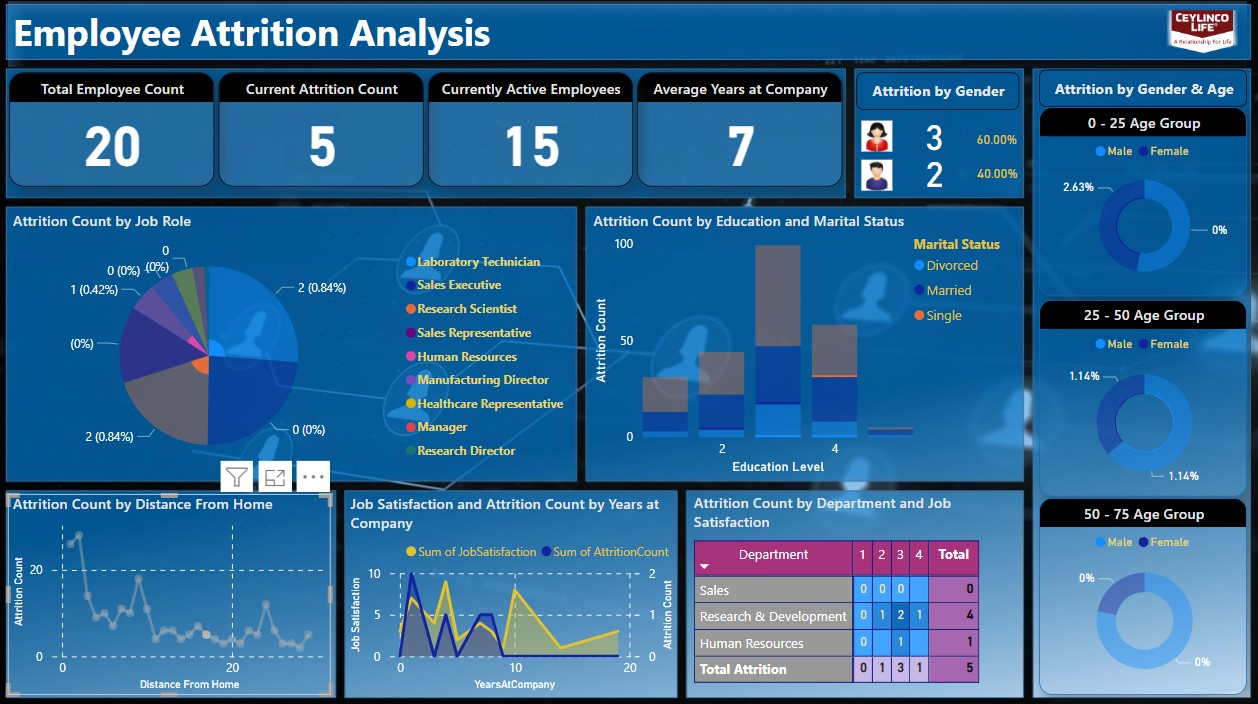

Layout of this report page (visuals, bound fields, positions):
{"tool":"powerbi","page":{"name":"Page 1","canvas":[1280,720],"ordinal":0},"visuals":[{"type":"textbox","box":[9.9,4.3,1258.5,66.7],"z":0},{"type":"card","title":"Total Employee Count","fields":{"Values":["Sum(Employee Attrition.EmployeeCount)"]},"box":[11.4,76.6,208.6,116.3],"z":1000},{"type":"card","title":"Average Years at Company","fields":{"Values":["Employee Attrition.AverageYears"]},"box":[649.8,76.6,208.6,116.3],"z":2000},{"type":"card","title":"Current Attrition Count","fields":{"Values":["Sum(Employee Attrition.AttritionCount)"]},"box":[224.2,76.6,208.6,116.3],"z":3000},{"type":"card","title":"Currently Active Employees","fields":{"Values":["Employee Attrition.ActiveEmployees"]},"box":[437,76.6,208.6,116.3],"z":4000},{"type":"card","fields":{"Values":["Employee Attrition.FemaleAttritionCount"]},"box":[918,113.5,68.1,52.5],"z":5000},{"type":"card","fields":{"Values":["Employee Attrition.MaleAttritionCount"]},"box":[912.3,153.2,79.5,48.2],"z":6000},{"type":"card","fields":{"Values":["Employee Attrition.PerMaleAttrition"]},"box":[988.9,161.7,53.9,36.9],"z":7000},{"type":"card","fields":{"Values":["Employee Attrition.PerFemaleAttrition"]},"box":[980.6,129,69.4,33.1],"z":8000},{"type":"textbox","box":[873.1,76.1,165.4,38],"z":9000},{"type":"pieChart","title":"Attrition Count by Job Role","fields":{"Category":["Employee Attrition.JobRole"],"Y":["Sum(Employee Attrition.AttritionCount)"]},"box":[9.9,216.6,578.7,272.8],"z":10000},{"type":"columnChart","title":"Attrition Count by Education and Marital Status","fields":{"Category":["Employee Attrition.Education"],"Y":["Sum(Employee Attrition.AttritionCount)"],"Series":["Employee Attrition.MaritalStatus"]},"box":[600.2,217.1,438.4,272.4],"z":11000},{"type":"lineChart","title":"Attrition Count by Distance From Home","fields":{"Category":["Employee Attrition.DistanceFromHome"],"Y":["Sum(Employee Attrition.AttritionCount)"]},"box":[9.9,505.1,329.2,204.3],"z":12000},{"type":"areaChart","title":"Job Satisfaction and Attrition Count by Years at Company","fields":{"Y":["Sum(Employee Attrition.JobSatisfaction)"],"Y2":["Sum(Employee Attrition.AttritionCount)"],"Category":["Employee Attrition.YearsAtCompany"]},"box":[353.3,505.1,337.7,204.3],"z":13000},{"type":"pivotTable","title":"Attrition Count by Department and Job Satisfaction","fields":{"Rows":["Employee Attrition.Department"],"Columns":["Employee Attrition.JobSatisfaction"],"Values":["Sum(Employee Attrition.AttritionCount)"]},"box":[702.8,504.3,335.7,205],"z":14000},{"type":"image","box":[1177.6,8.5,90.8,56.8],"z":15000},{"type":"donutChart","title":"0 - 25 Age Group","fields":{"Category":["Employee Attrition.Gender"],"Series":["Employee Attrition.AgeBand"],"Y":["Sum(Employee Attrition.AttritionCount)"]},"box":[1058.3,112.4,210,191.8],"z":16000},{"type":"donutChart","title":"25 - 50 Age Group","fields":{"Category":["Employee Attrition.Gender"],"Series":["Employee Attrition.AgeBand"],"Y":["Sum(Employee Attrition.AttritionCount)"]},"box":[1058.5,306.5,210,200.1],"z":17000},{"type":"donutChart","title":"50 - 75 Age Group","fields":{"Category":["Employee Attrition.Gender"],"Series":["Employee Attrition.AgeBand"],"Y":["Sum(Employee Attrition.AttritionCount)"]},"box":[1058.3,509.3,210,200.1],"z":18000},{"type":"textbox","box":[1058.3,74.4,210,38],"z":19000},{"type":"image","box":[873.1,120.7,41.3,41.3],"z":20000},{"type":"image","box":[873.1,160.4,41.3,41.3],"z":21000}]}

Visuals, with their boxes in screenshot pixels (x1, y1, x2, y2), scaled from the page's 1280x720 canvas onto the 1258x704 screenshot:
textbox: 10:4:1247:69
"Total Employee Count" card: 11:75:216:189
"Average Years at Company" card: 639:75:844:189
"Current Attrition Count" card: 220:75:425:189
"Currently Active Employees" card: 429:75:635:189
card - Employee Attrition.FemaleAttritionCount: 902:111:969:162
card - Employee Attrition.MaleAttritionCount: 897:150:975:197
card - Employee Attrition.PerMaleAttrition: 972:158:1025:194
card - Employee Attrition.PerFemaleAttrition: 964:126:1032:158
textbox: 858:74:1021:112
"Attrition Count by Job Role" pieChart: 10:212:578:479
"Attrition Count by Education and Marital Status" columnChart: 590:212:1021:479
"Attrition Count by Distance From Home" lineChart: 10:494:333:694
"Job Satisfaction and Attrition Count by Years at Company" areaChart: 347:494:679:694
"Attrition Count by Department and Job Satisfaction" pivotTable: 691:493:1021:694
image: 1157:8:1247:64
"0 - 25 Age Group" donutChart: 1040:110:1247:297
"25 - 50 Age Group" donutChart: 1040:300:1247:495
"50 - 75 Age Group" donutChart: 1040:498:1247:694
textbox: 1040:73:1247:110
image: 858:118:899:158
image: 858:157:899:197
